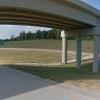Bridge: (4, 0, 98, 58)
